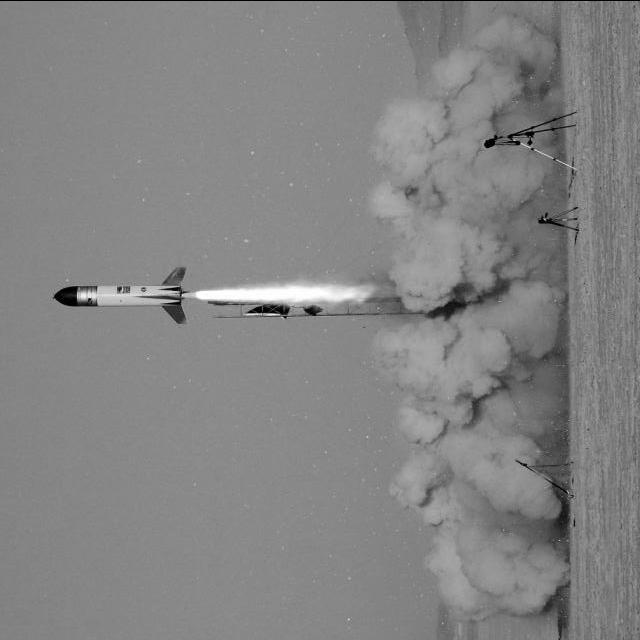missile: (51, 266, 188, 324)
